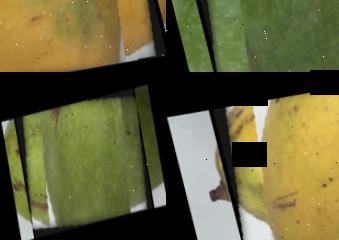Ripe: (210, 72, 339, 240), (0, 0, 166, 72)
Unripe: (14, 78, 153, 240), (182, 0, 339, 72)
